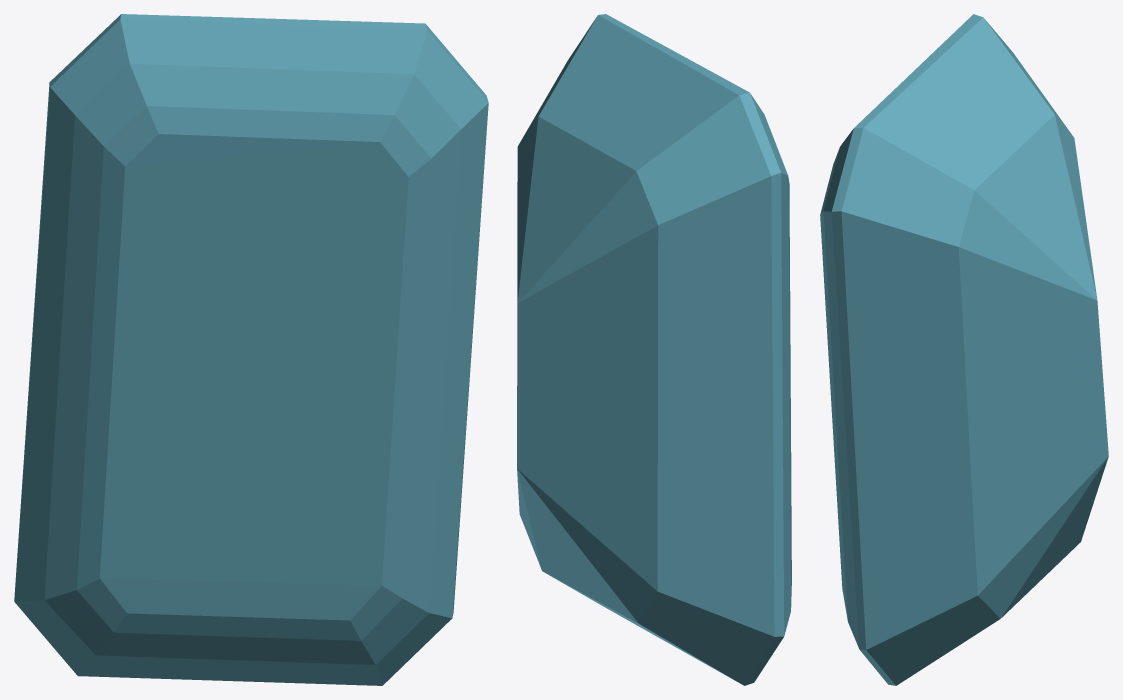
File: TL2_8shapes_Emerald_Classic_Stone.001 2.glb
3 renders of one model, left to right at view 1: azimuth 30°, elevation 25°; view 2: azimuth 150°, elevation 25°; view 3: azimuth 270°, elevation 25°, orthographic. The views are drawn at different scales.
Visible parts, largest first — view 1: TL2_8shapes_Emerald_Classic_Stone.001; view 2: TL2_8shapes_Emerald_Classic_Stone.001; view 3: TL2_8shapes_Emerald_Classic_Stone.001.
Boxes of the visible parts, x1,y1,x2,y2 form: TL2_8shapes_Emerald_Classic_Stone.001: [14, 14, 488, 685]; TL2_8shapes_Emerald_Classic_Stone.001: [517, 14, 791, 685]; TL2_8shapes_Emerald_Classic_Stone.001: [820, 14, 1108, 685].
Size of the model in its own units: 0.3554 by 0.6401 by 0.2876.
